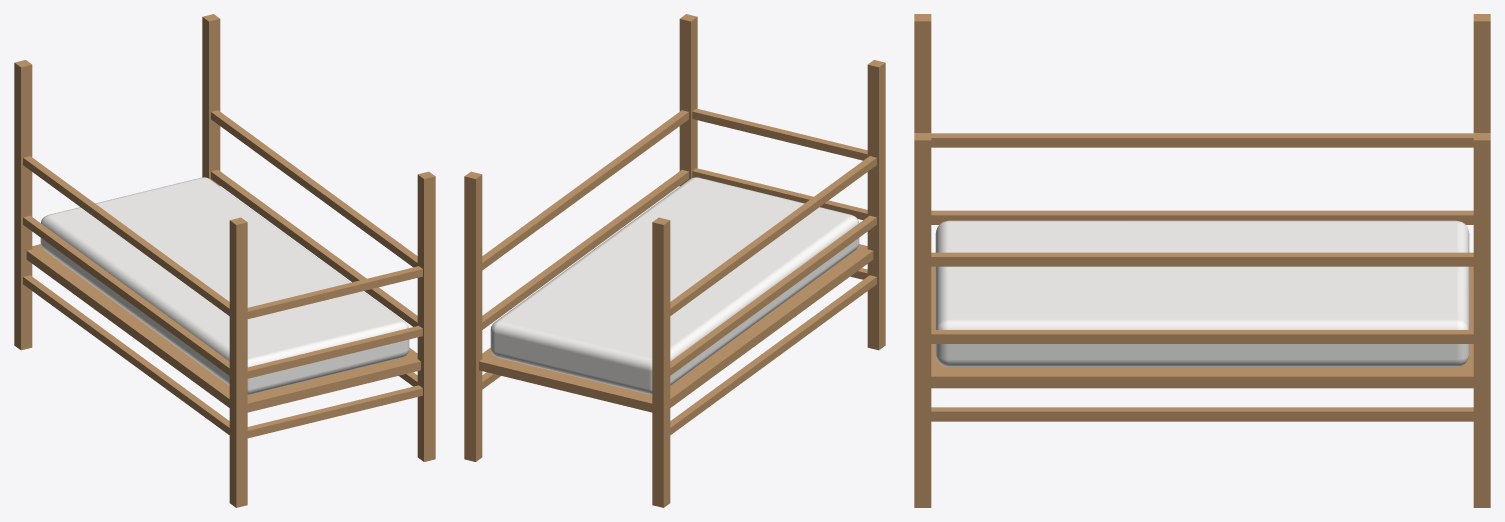
File: cot-lite.glb
3 renders of one model, left to right at view 1: azimuth 30°, elevation 25°; view 2: azimuth 150°, elevation 25°; view 3: azimuth 270°, elevation 25°, orthographic. The views are drawn at different scales.
Visible parts, largest first — view 1: material-0-frame, material-1-upholstery; view 2: material-0-frame, material-1-upholstery; view 3: material-0-frame, material-1-upholstery.
Boxes of the visible parts, x1=… form: material-0-frame: x1=14, y1=14, x2=435, y2=507; material-1-upholstery: x1=40, y1=177, x2=409, y2=394; material-0-frame: x1=464, y1=14, x2=885, y2=507; material-1-upholstery: x1=490, y1=177, x2=859, y2=394; material-0-frame: x1=914, y1=14, x2=1490, y2=507; material-1-upholstery: x1=935, y1=220, x2=1469, y2=366.
Bounding box in the file's own units: 0.7 × 0.95 × 1.35.
